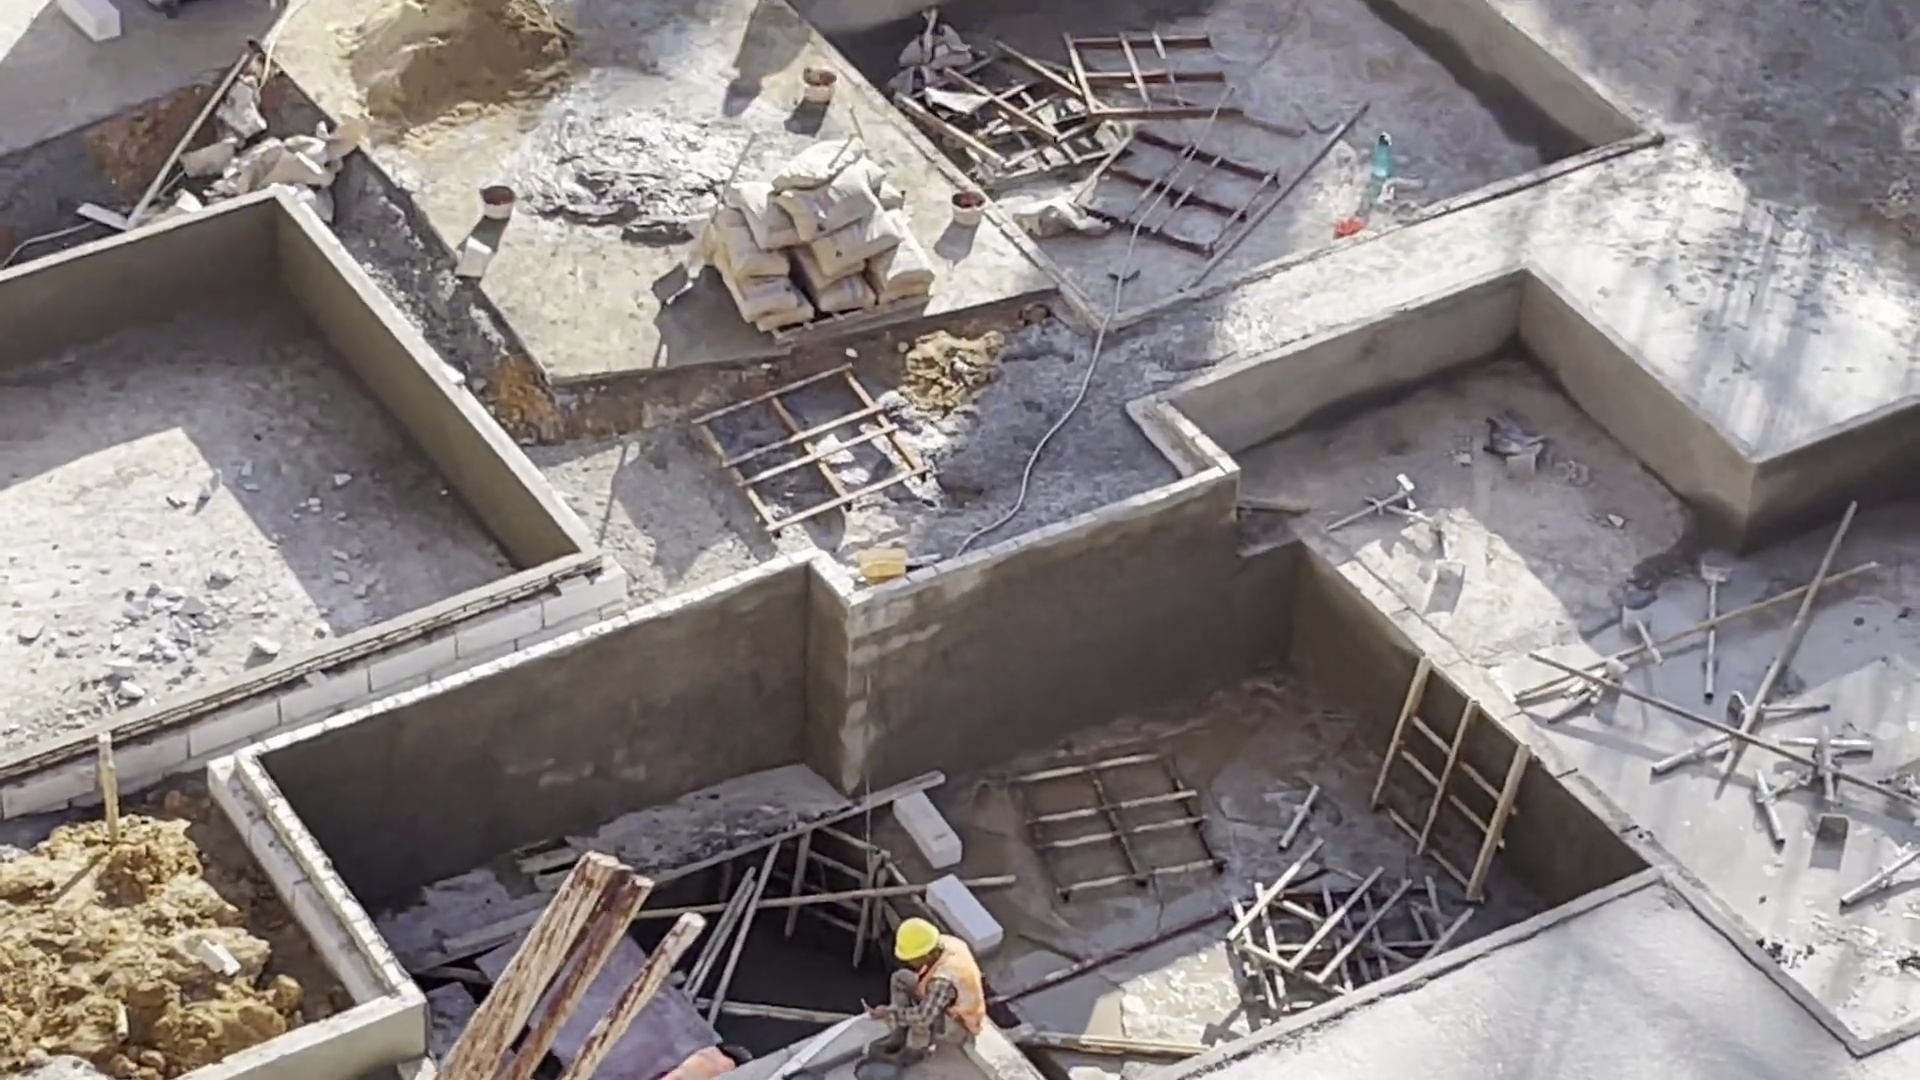helmet: (894, 916, 942, 970)
person: (877, 908, 1003, 1071)
vest: (918, 945, 1007, 1048)
